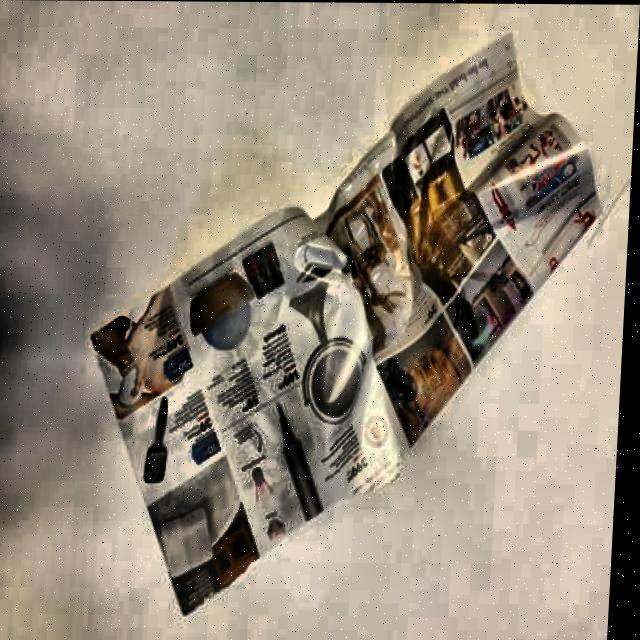paper: (77, 34, 611, 622)
